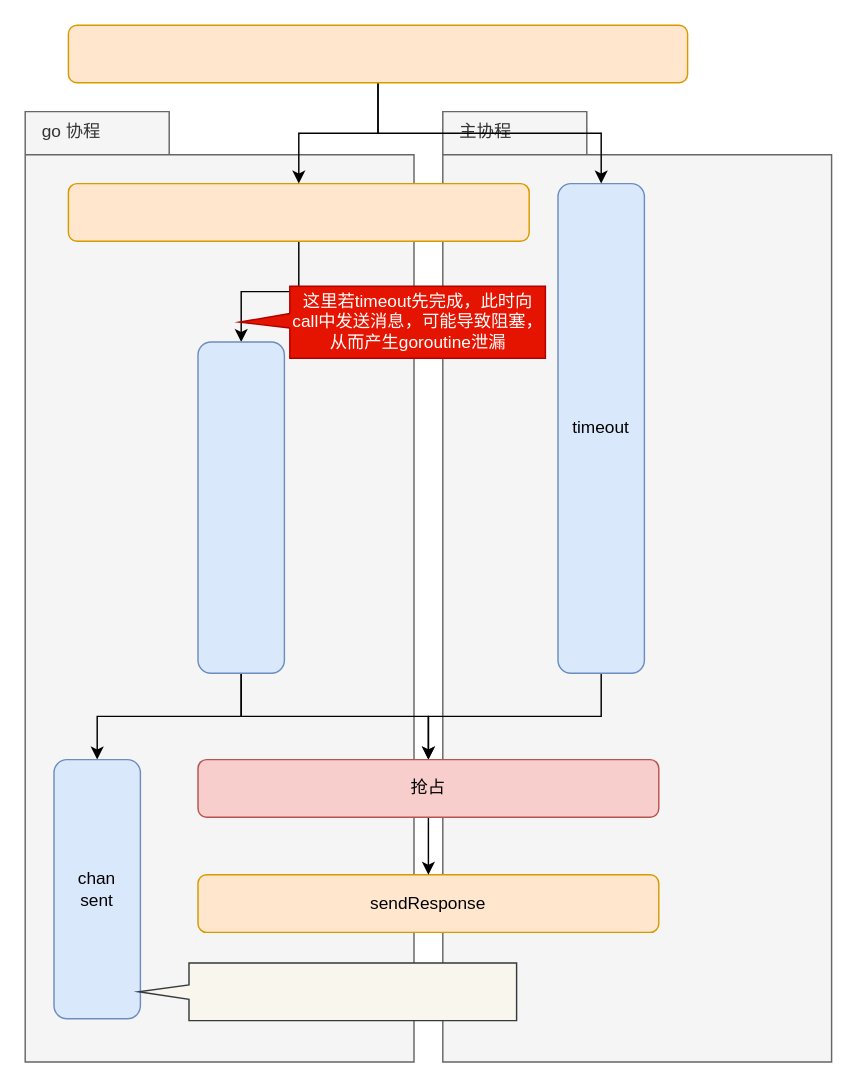
This 857x1087 diagram has some shape labels left out. Each missing label, with the centre of its shape:
begin: the point at 377,53
chan call: the point at 240,507
req.service.Call(req.method, req.args, req.reply): the point at 298,211
等待go协程send完成: the point at 327,991
